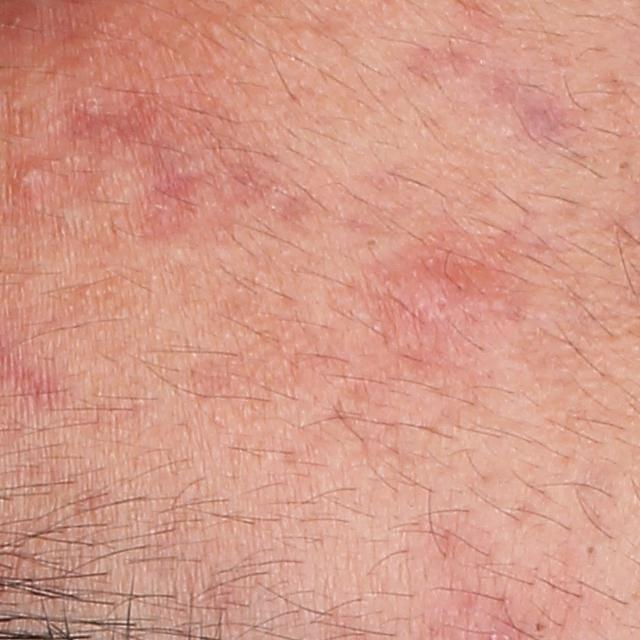comedo: (360, 231, 385, 257), (614, 153, 633, 176), (581, 539, 600, 559), (532, 618, 546, 637)
papule: (373, 256, 520, 332), (10, 148, 67, 211)
